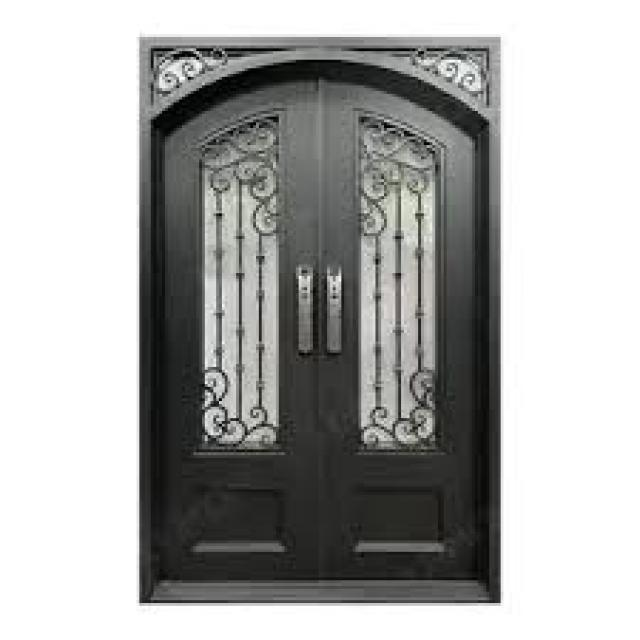door: (140, 41, 500, 602)
